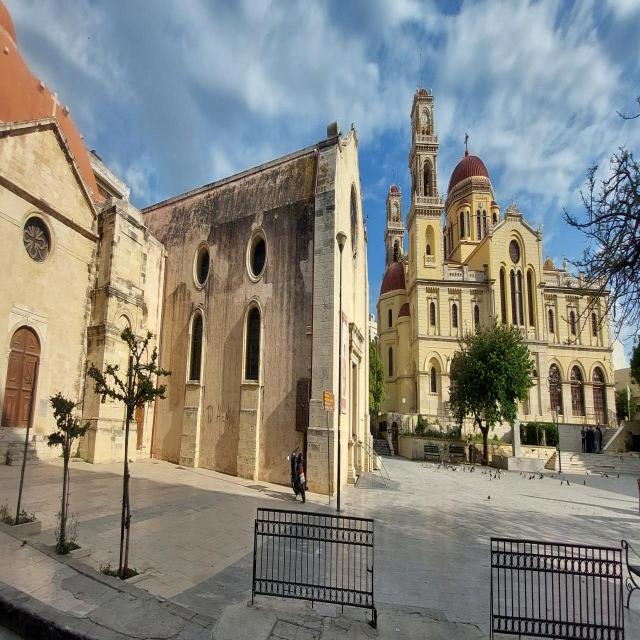Agia Aikaterini: (2, 5, 379, 491)
